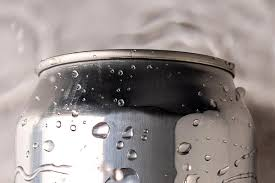can: (6, 51, 263, 181)
